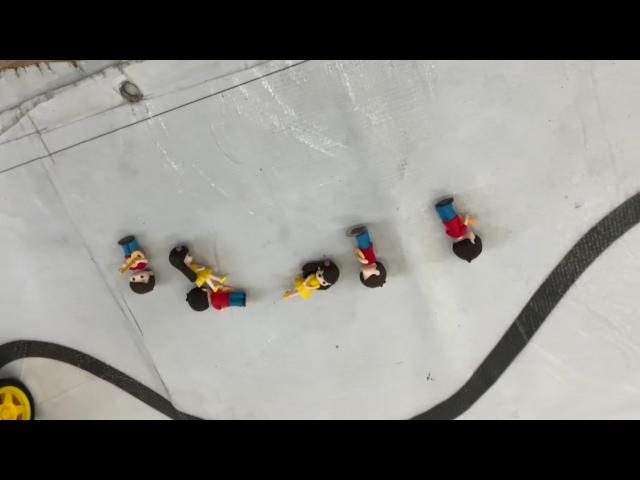man: (432, 190, 484, 266), (343, 224, 389, 292), (114, 229, 158, 294), (183, 285, 249, 313)
woman: (282, 255, 342, 311), (169, 242, 229, 294)
